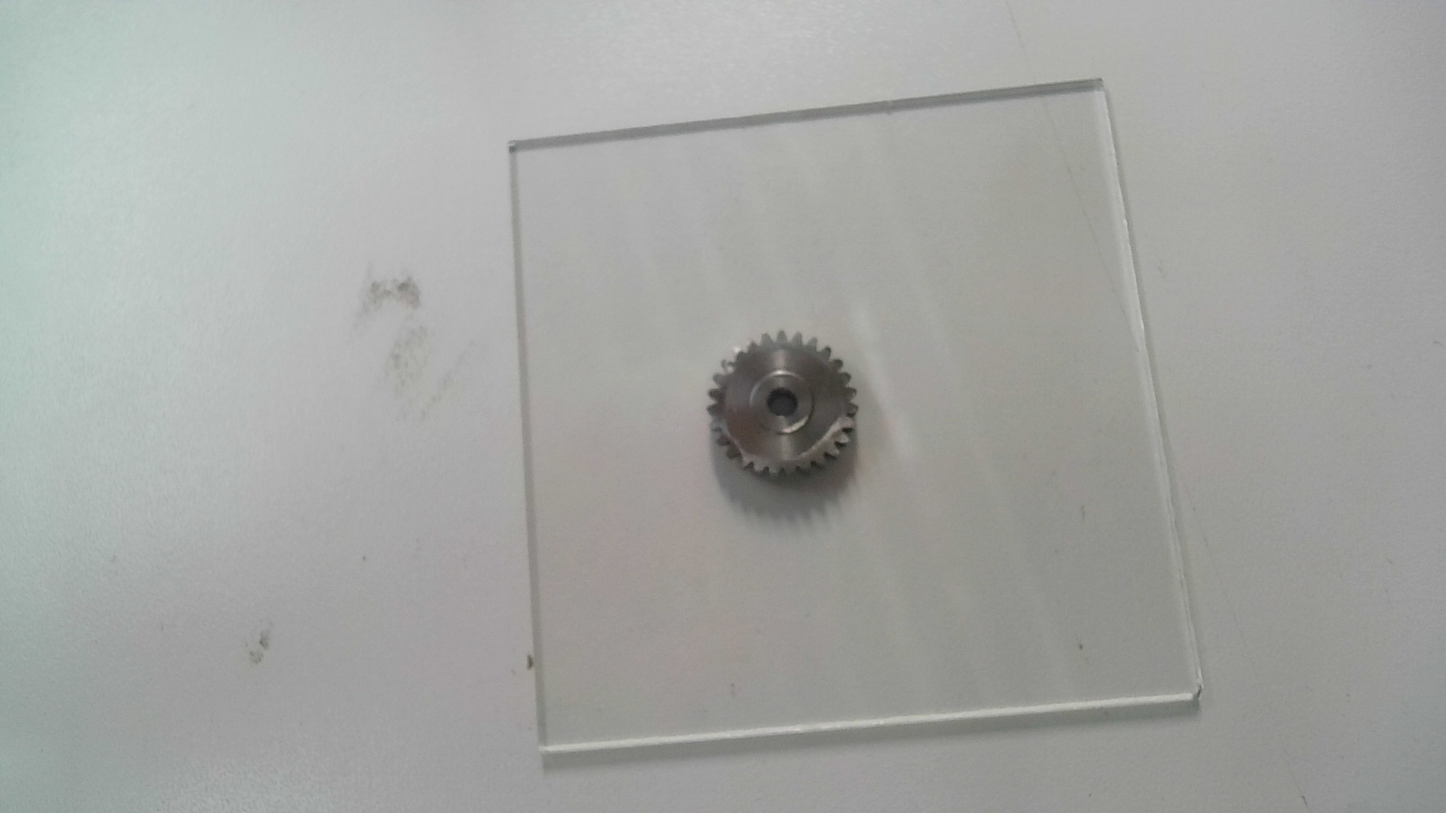gear: (709, 331, 860, 480)
